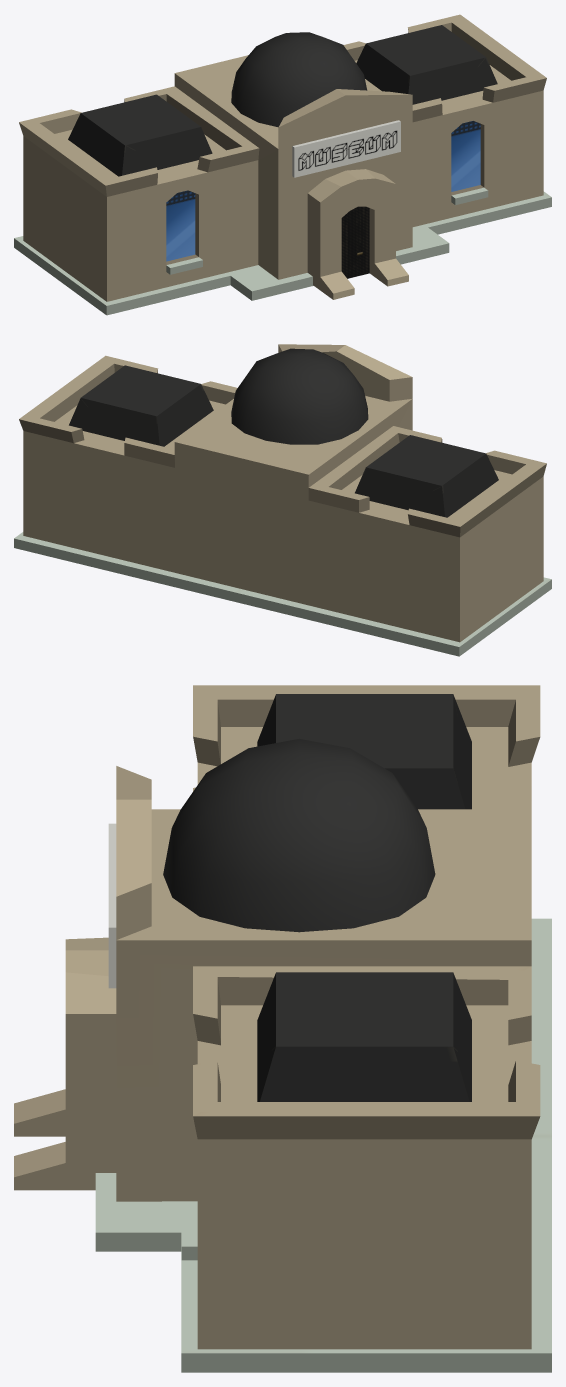
The model's file is Museum.fbx.
The picture shows the model from 3 angles, top to bottom: view 1: azimuth 30°, elevation 25°; view 2: azimuth 150°, elevation 25°; view 3: azimuth 270°, elevation 25°; orthographic projection. The views are drawn at different scales.
Visible parts, largest first — view 1: Museum; view 2: Museum; view 3: Museum.
Part boxes in pixels (x1,y1,x2,y2): Museum: [14, 14, 551, 315]; Museum: [14, 344, 551, 656]; Museum: [14, 685, 551, 1372].
Size of the model in its own units: 14.54 by 6.27 by 7.61.
